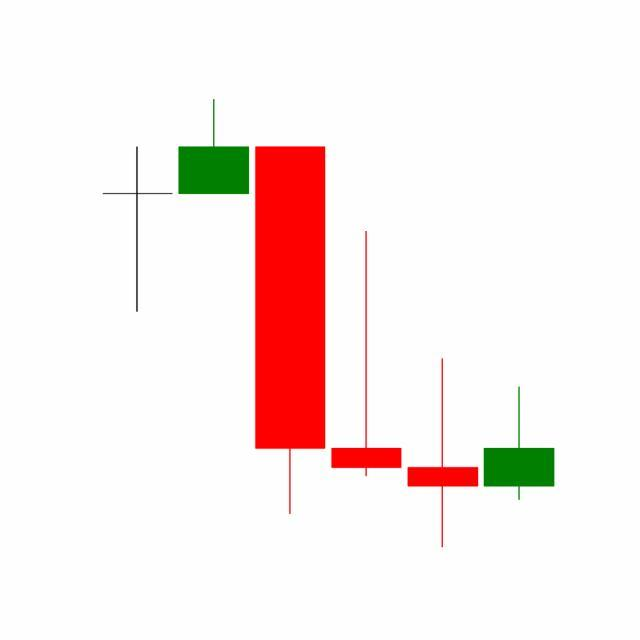Spinning Top: (404, 356, 482, 550)
